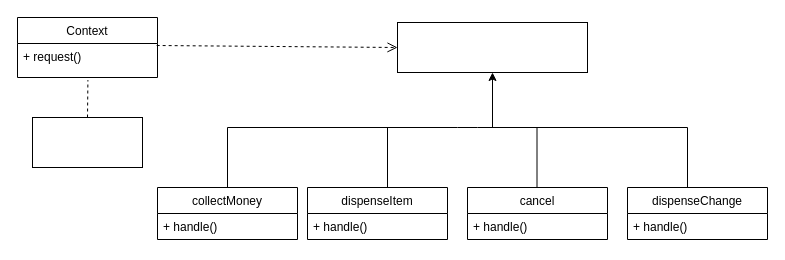
Image size: 785x260. Some labels were removed from this diagram. The shapes that lost their labels are listed below. From the top down, each one's centre as x and y in pixels, then its label:
the point at 492,47: State + handle()
the point at 87,142: state -> handle()
